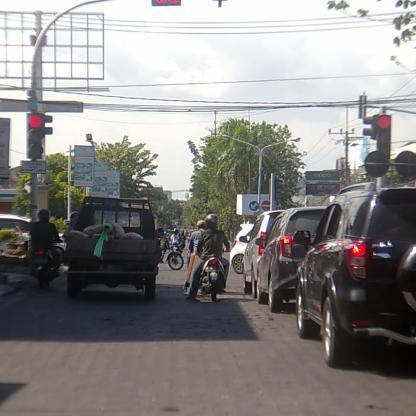red: (26, 111, 43, 158), (376, 113, 390, 165)
